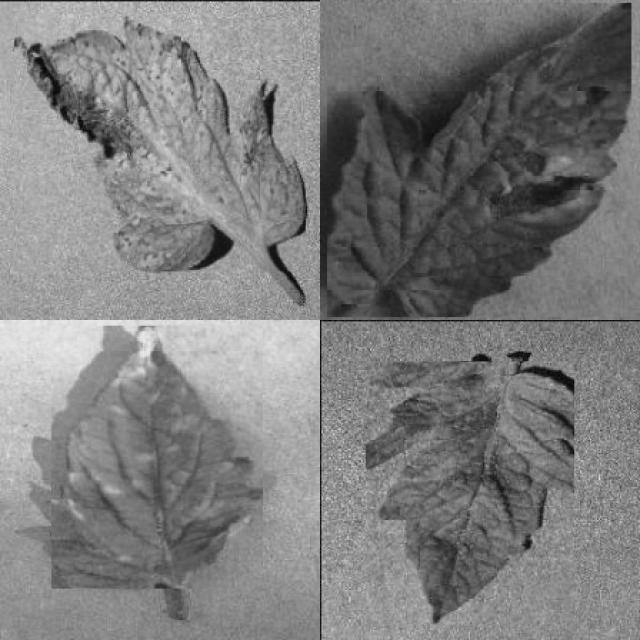Early Blight: (327, 3, 632, 317)
Leaf Mold: (52, 326, 262, 588)
Mosaic Virus: (365, 362, 575, 625)
Septoria: (15, 15, 305, 271)
